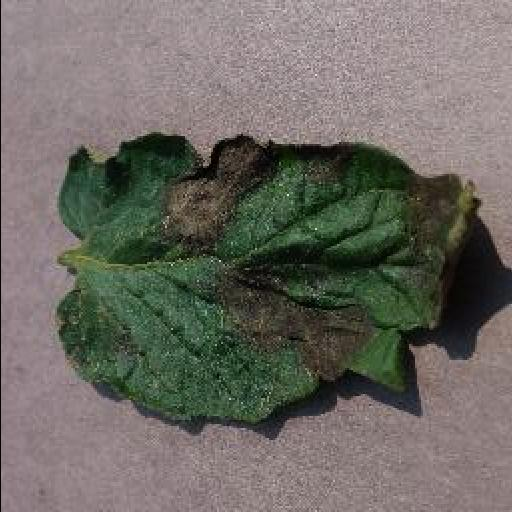disease_tomato: (44, 126, 482, 430)
